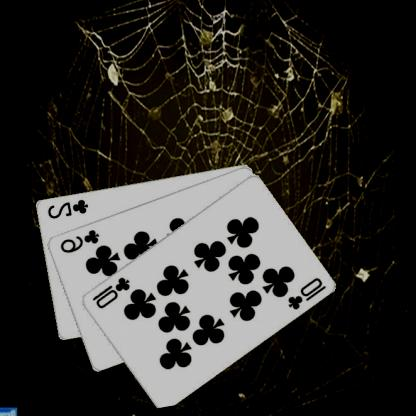10C: (286, 275, 329, 311), (91, 274, 133, 310)
2C: (46, 196, 91, 220)
9C: (59, 226, 102, 255)
